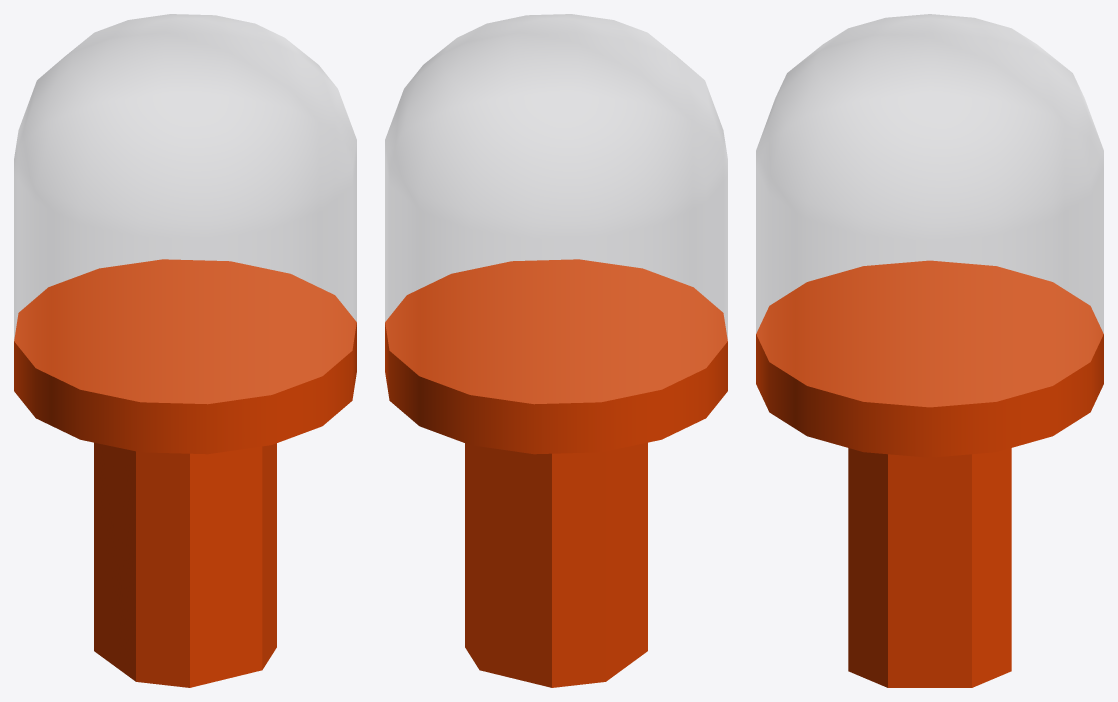
The model's file is LampFlash.fbx.
The picture shows the model from 3 angles, left to right: view 1: azimuth 30°, elevation 25°; view 2: azimuth 150°, elevation 25°; view 3: azimuth 270°, elevation 25°; orthographic projection.
Visible parts, largest first — view 1: LampFlashMesh; view 2: LampFlashMesh; view 3: LampFlashMesh.
Part boxes in pixels (<box>): LampFlashMesh: <box>14,14,356,687</box>; LampFlashMesh: <box>385,14,727,687</box>; LampFlashMesh: <box>756,14,1103,687</box>.
Size of the model in its own units: 10.66 by 20.77 by 10.66.
